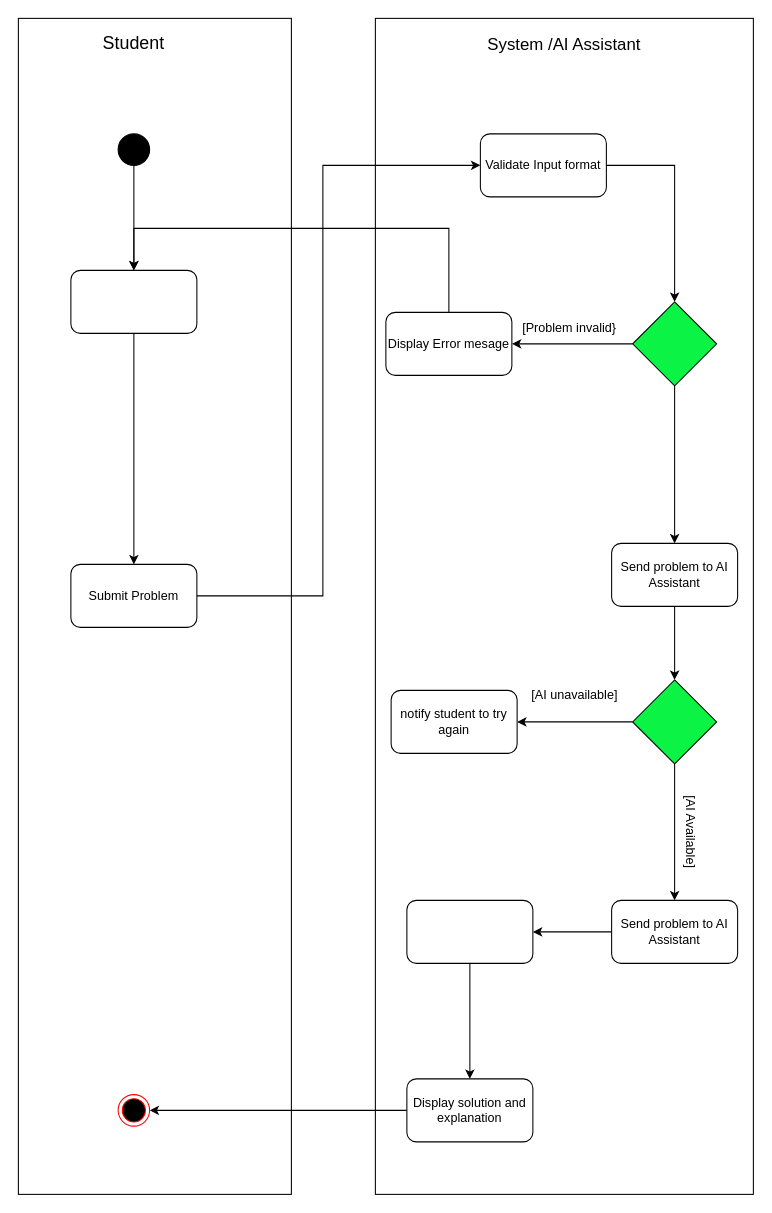
Some shapes in this 772 by 1213 pixel diagram are drawn without their labels. Here are the shapes that lost their labels. From the top down, the centre of each, then its label:
At (133,301): "Enter Math Problem".
At (563,605): "[Problem Valid]".
At (469,931): "log attempt in Database".
